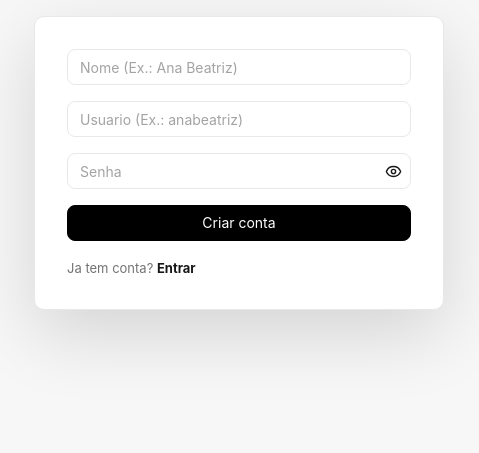
Test: RegisterView › renders validation fields from the backend error envelope
This screenshot has width=479, height=453.
Type "Ana Beatriz" into the field labelled "Nome".
click(239, 67); type("Ana Beatriz")  # box [67, 49, 411, 85]
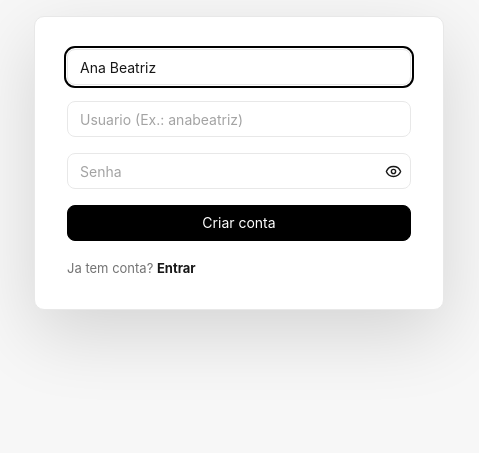
Type "anabeatriz" into the field labelled "Usuario".
click(239, 119); type("anabeatriz")  # box [67, 101, 411, 137]
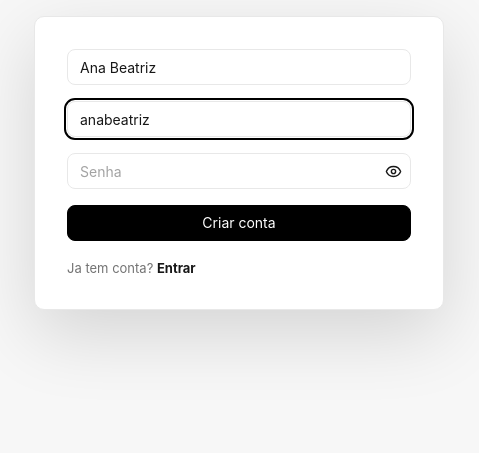
Type "curta" into the password field labelled "Senha".
click(239, 171); type("curta")  # box [67, 153, 411, 189]
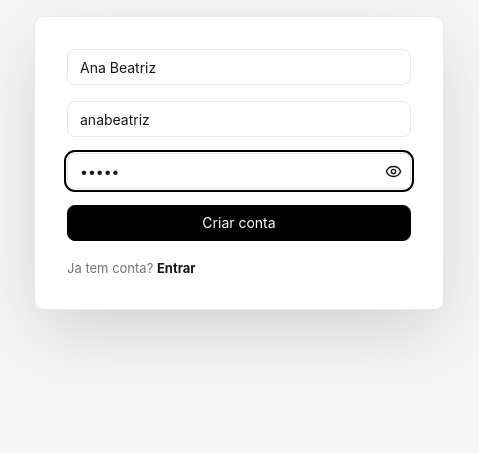
Click the button "Criar conta".
click(239, 223)  # box [67, 205, 411, 241]
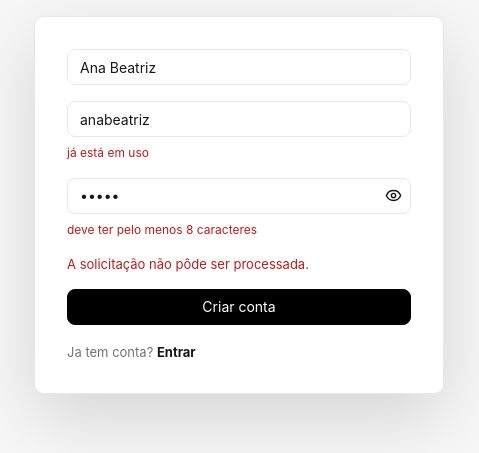
Now the text "já está em uso" is shown, box [67, 145, 149, 160]
Now the text "deve ter pelo menos 8 caracteres" is shown, box [67, 222, 257, 237]
Now the message reads "A solicitação não pôde ser processada.", box [67, 256, 309, 272]
